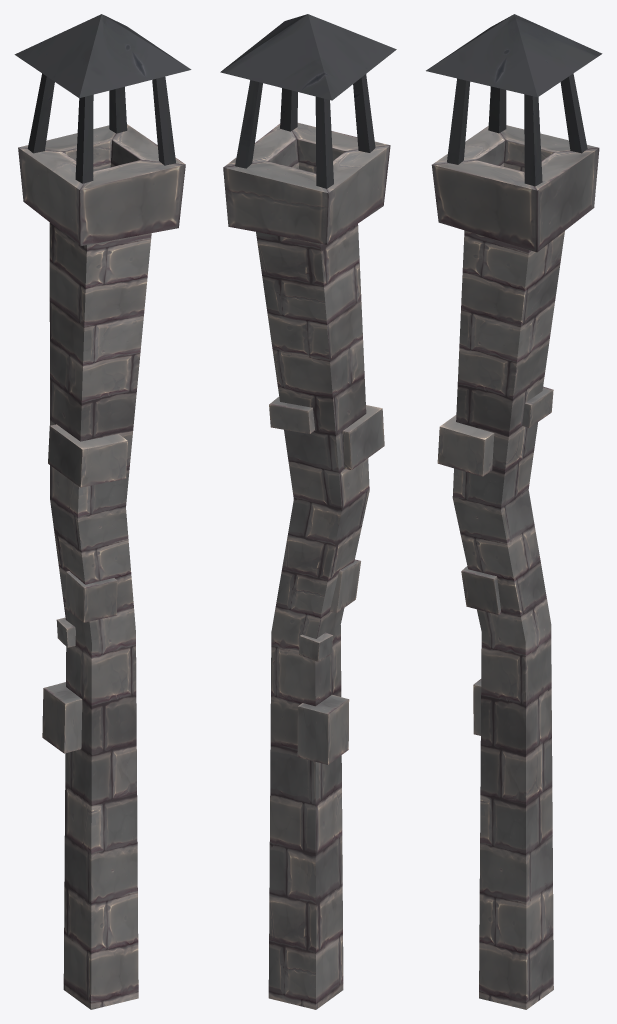
Rendered from SM_BLD_chimney_v02_03.fbx.
The picture shows the model from 3 angles, left to right: view 1: azimuth 30°, elevation 25°; view 2: azimuth 150°, elevation 25°; view 3: azimuth 330°, elevation 25°; orthographic projection.
Visible parts, largest first — view 1: SM_BLD_chimney_v02_03; view 2: SM_BLD_chimney_v02_03; view 3: SM_BLD_chimney_v02_03.
Part boxes in pixels (box(x1,y1,x2,y2)): SM_BLD_chimney_v02_03: box(14, 14, 191, 1009); SM_BLD_chimney_v02_03: box(220, 14, 396, 1009); SM_BLD_chimney_v02_03: box(426, 14, 602, 1009).
Size of the model in its own units: 144 by 1205 by 144.
